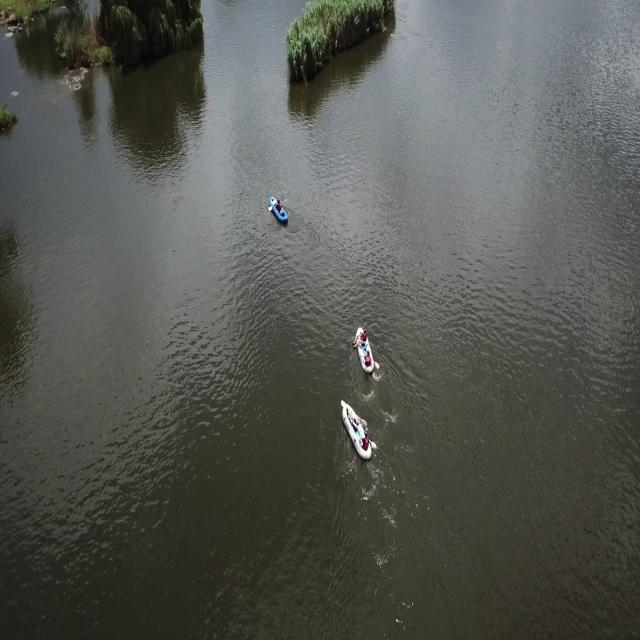kayak: (340, 398, 377, 463), (351, 321, 380, 378), (266, 189, 289, 227)
